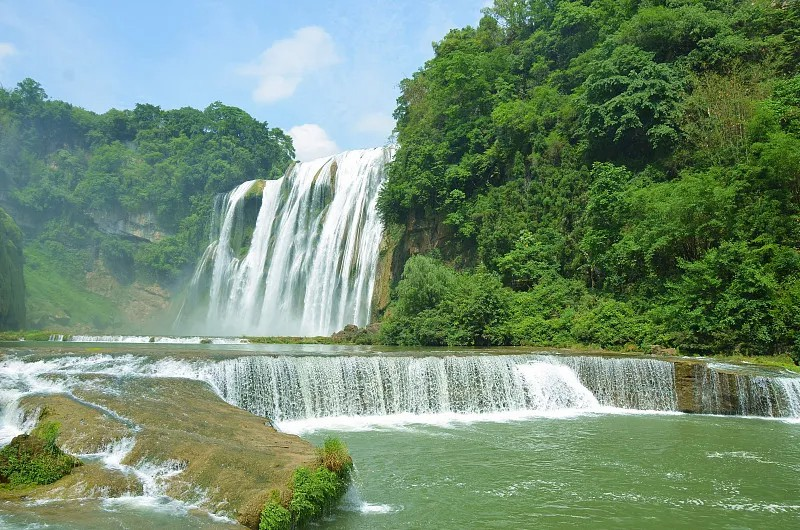Huangguoshu: (189, 146, 389, 334)
